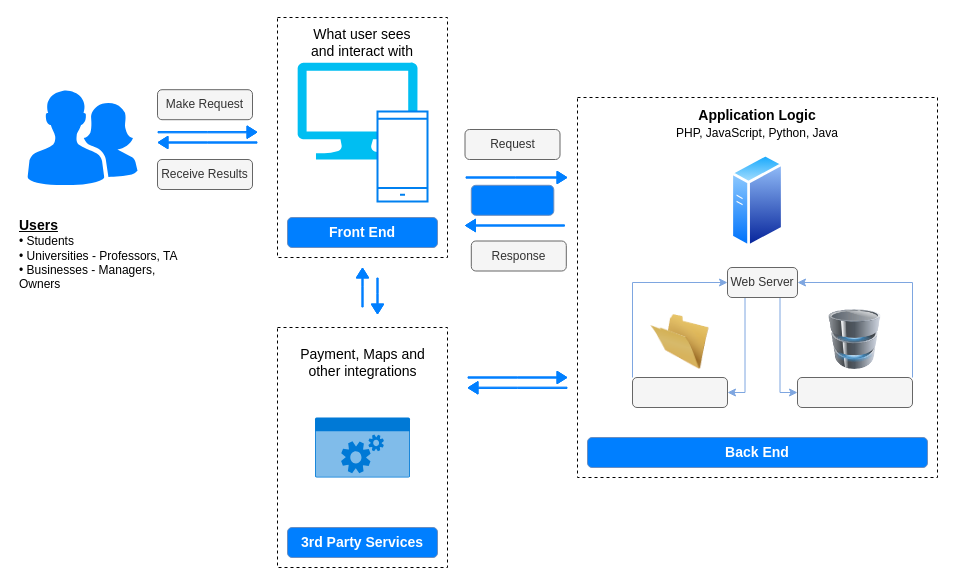
Image size: 955x585. Some labels were removed from this diagram. Each missing label, with the centre of its shape:
API: (x=512, y=199)
Data Source: (x=854, y=392)
File System: (x=680, y=392)
Services: (x=362, y=447)
